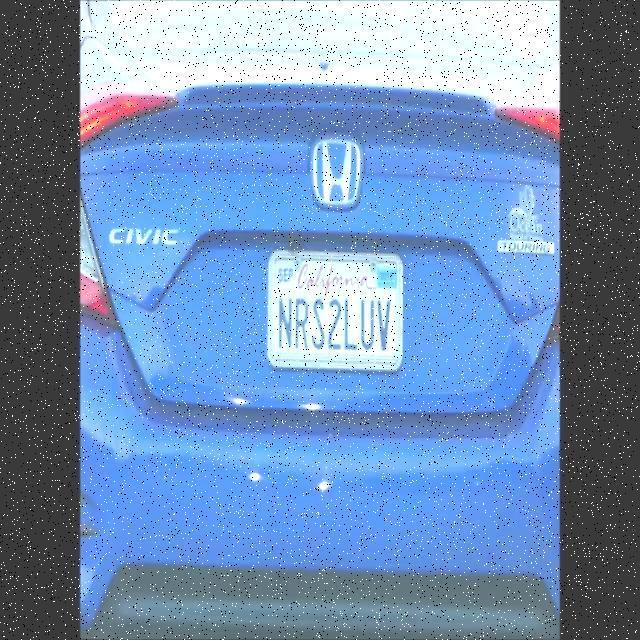LicensePlate: (267, 244, 406, 375)
